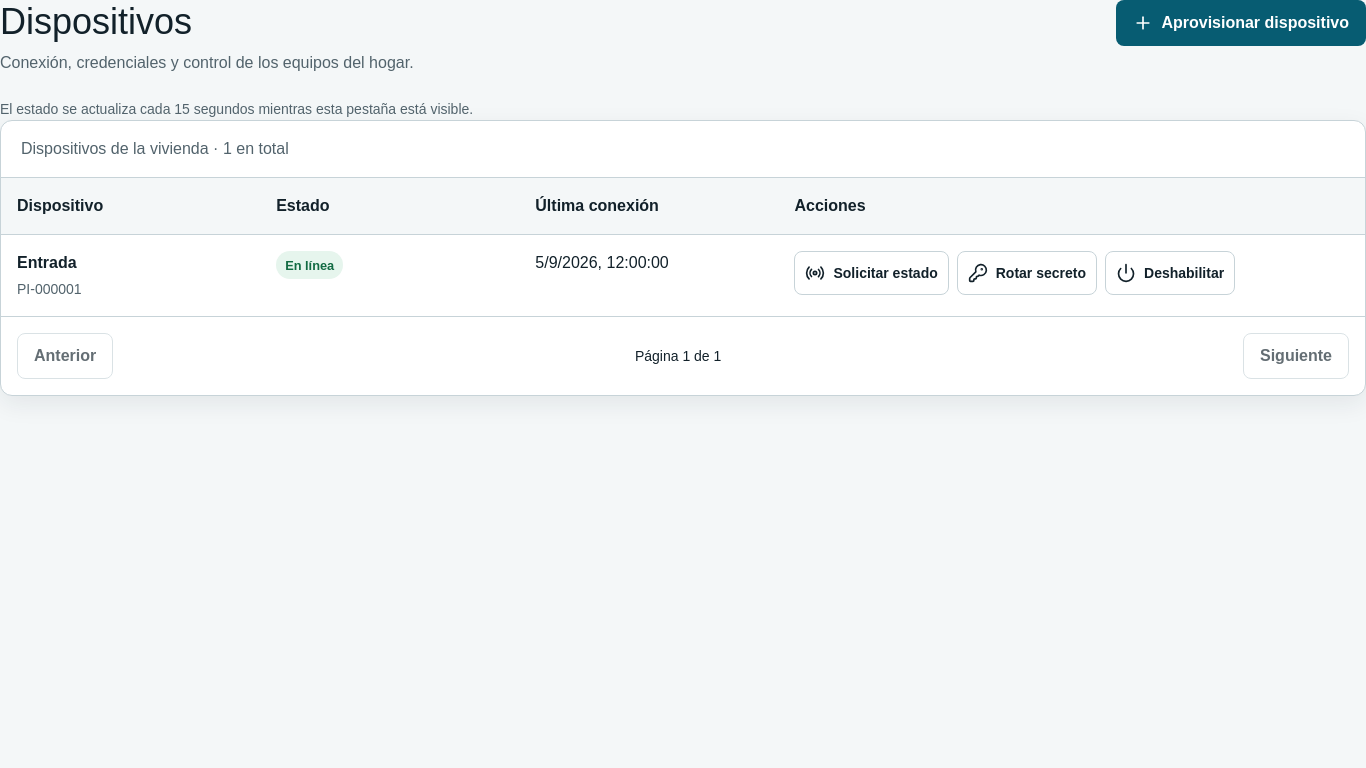
Dispositivos › shows a provisioned secret once and requires explicit acknowledgement before closing
Check: the text "Entrada" is shown, box x1=17 y1=254 x2=77 y2=271
Step 1. Click the button "Aprovisionar dispositivo" → (1241, 23), box x1=1116 y1=0 x2=1365 y2=46
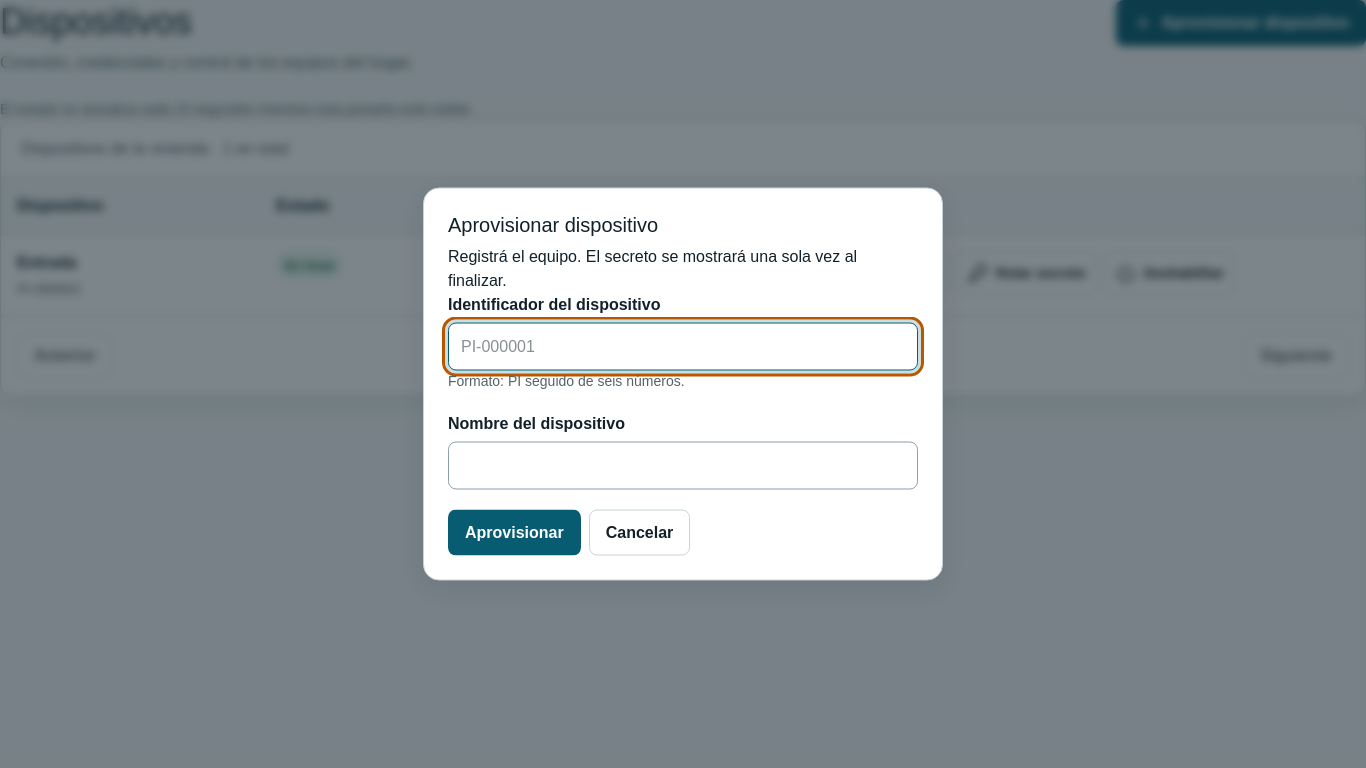
Step 2. Type "PI-000002" into the field labelled "Identificador del dispositivo" → (683, 346), box x1=448 y1=322 x2=918 y2=370
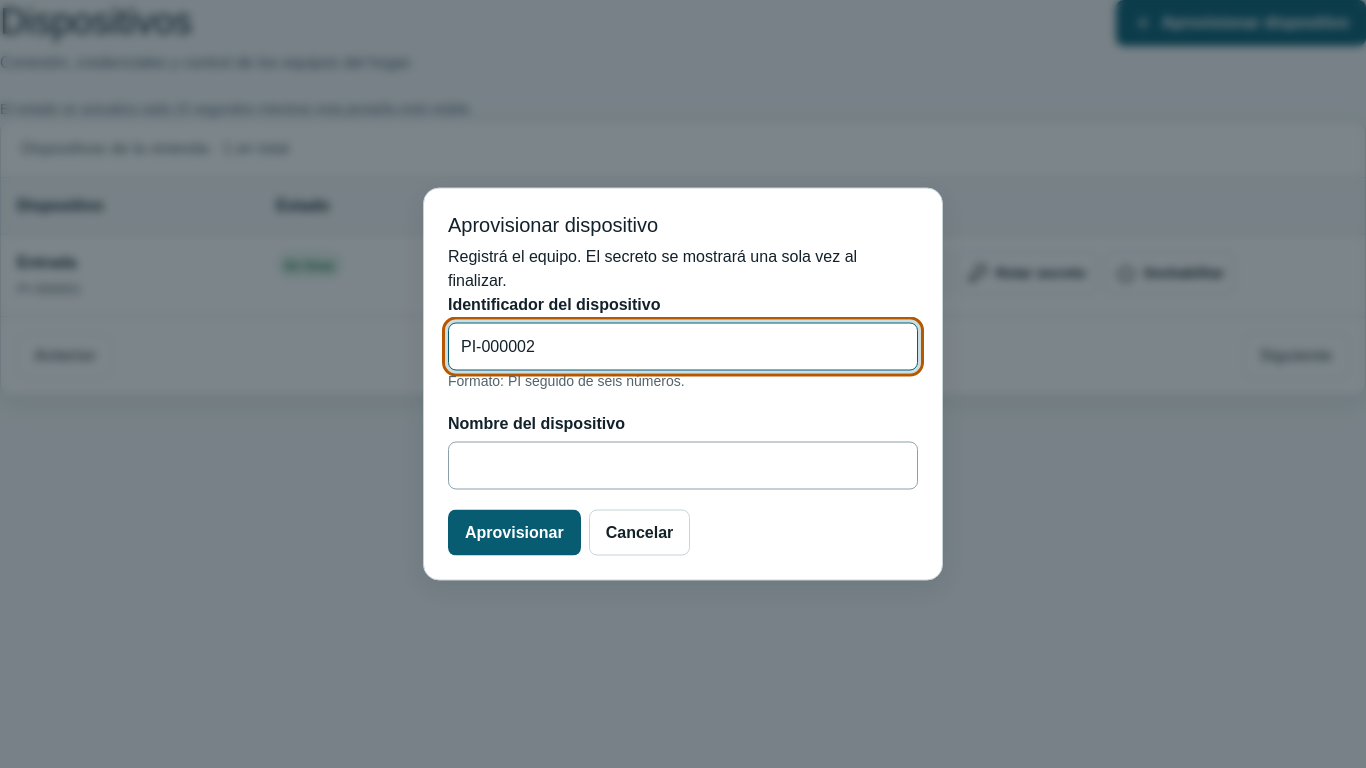
Step 3. Type "Cochera" into the field labelled "Nombre del dispositivo" → (683, 466), box x1=448 y1=442 x2=918 y2=490
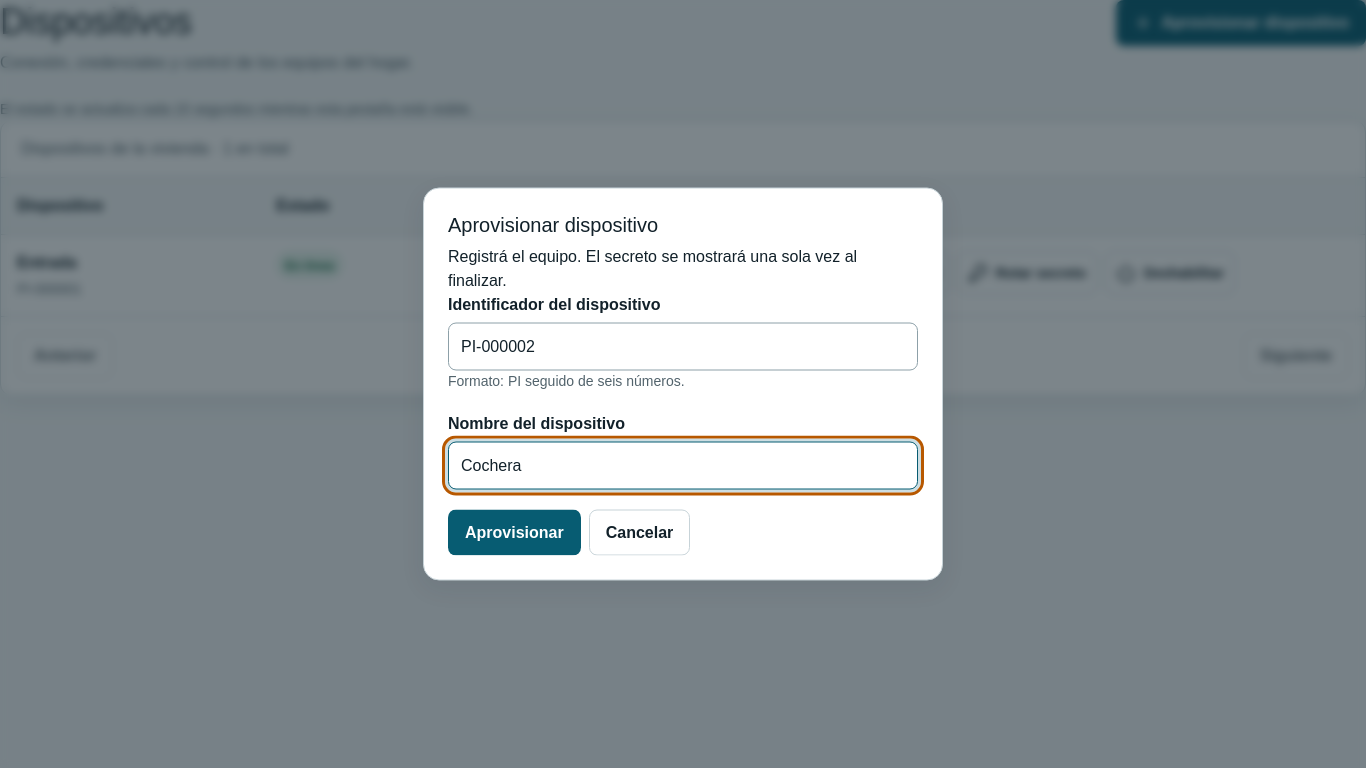
Step 4. Click the button "Aprovisionar" → (514, 532), box x1=448 y1=510 x2=581 y2=556
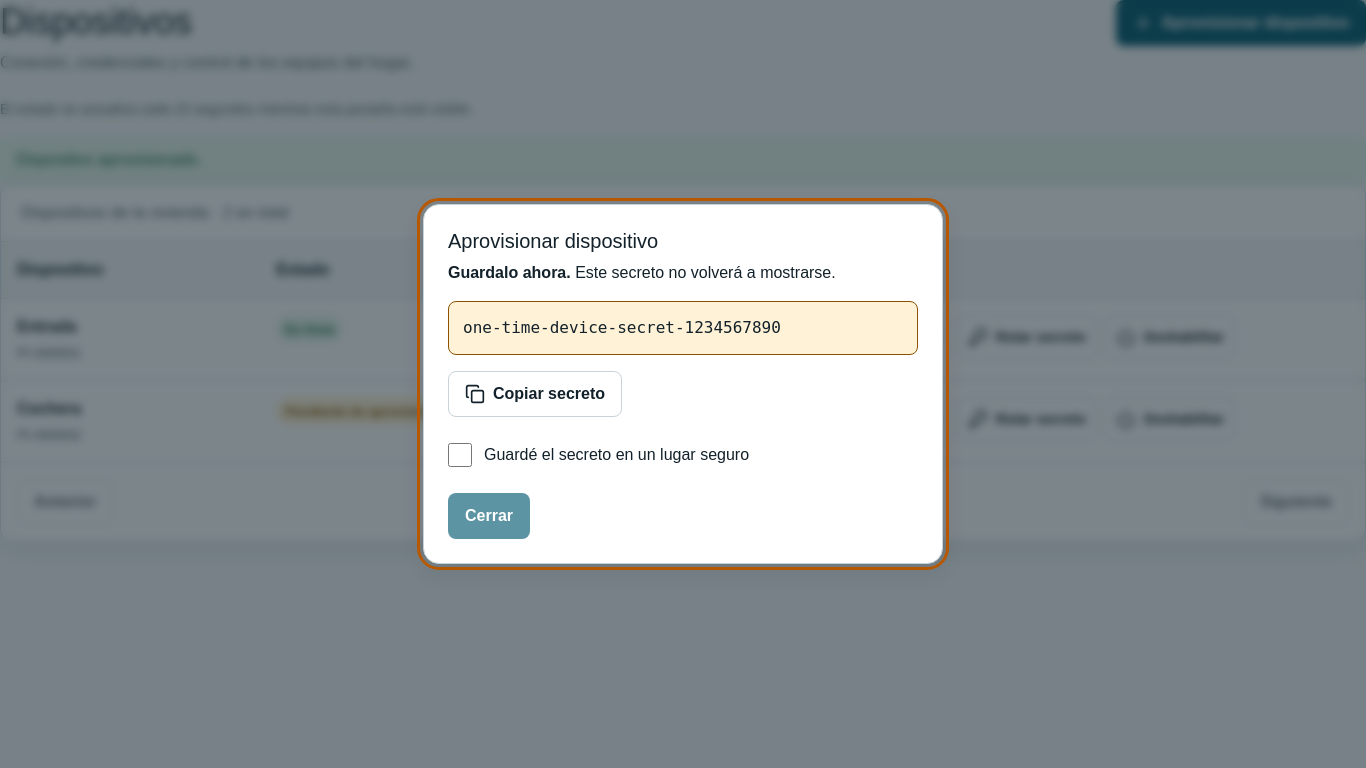
Check: the text "Guardalo ahora." is shown, box x1=448 y1=264 x2=571 y2=281
Check: the text "one-time-device-secret-1234567890" is shown, box x1=448 y1=301 x2=918 y2=355
Check: the button "Cerrar" is disabled, box x1=448 y1=493 x2=530 y2=539
Step 5. Press Escape
Check: the dialog is shown, box x1=423 y1=204 x2=943 y2=564
Step 6. Click the checkbox labelled "Guardé el secreto en un lugar seguro" → (460, 455), box x1=448 y1=443 x2=472 y2=467
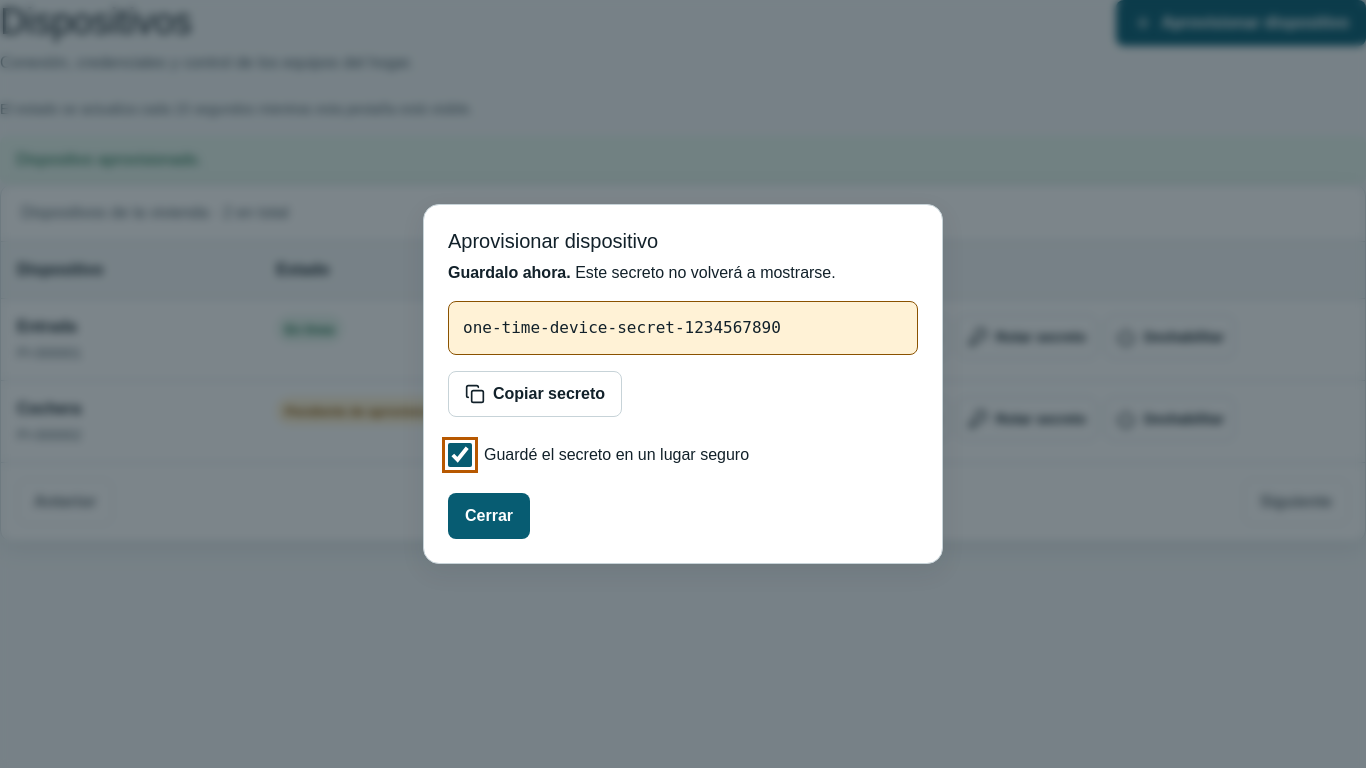
Step 7. Click the button "Cerrar" → (489, 516), box x1=448 y1=493 x2=530 y2=539
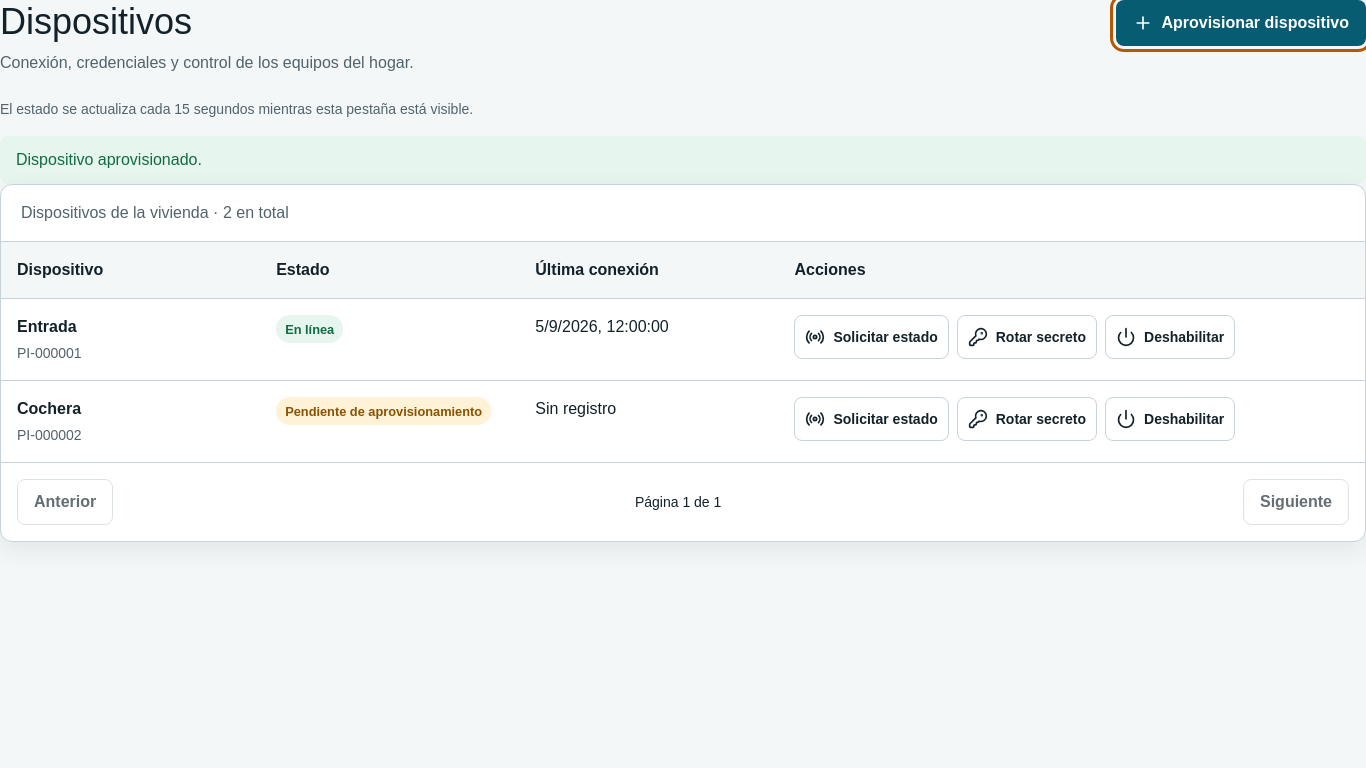
Check: the text "one-time-device-secret-1234567890" is gone
